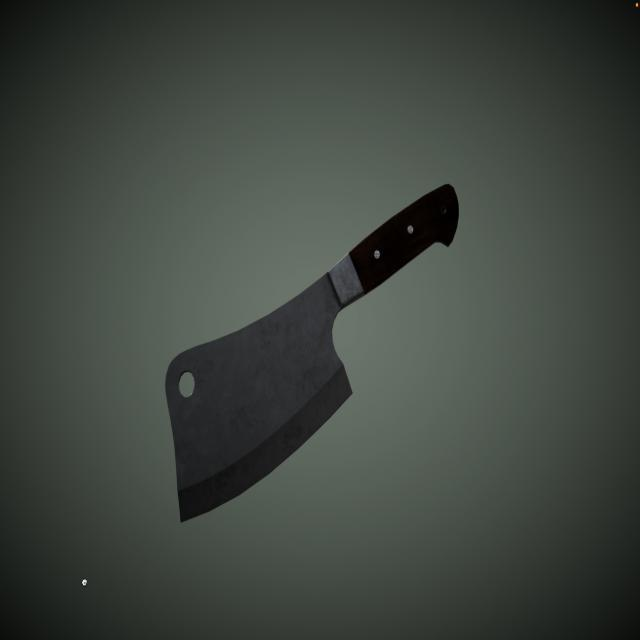cleaver: (168, 184, 462, 534)
